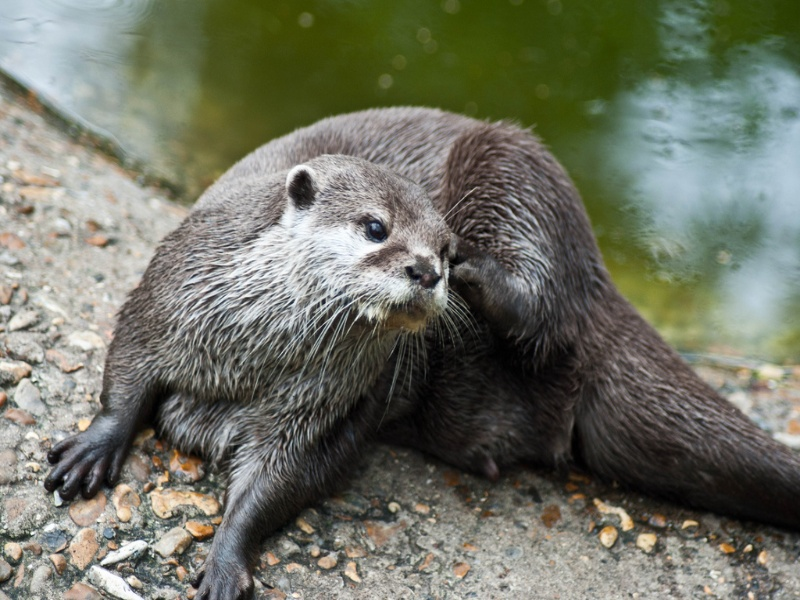minkish: (40, 102, 800, 597)
